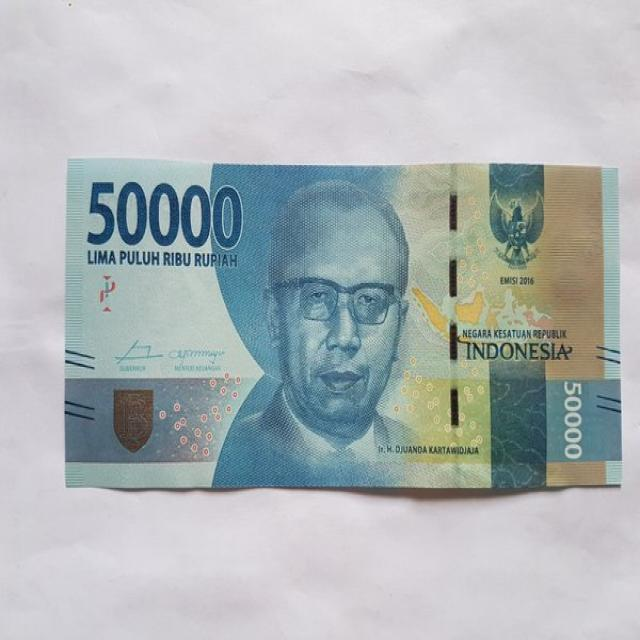lima puluh ribu rupiah: (52, 144, 626, 511), (266, 194, 397, 423), (82, 174, 246, 256)
